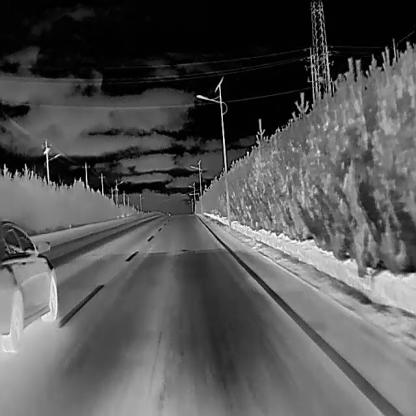car: (0, 218, 58, 352)
